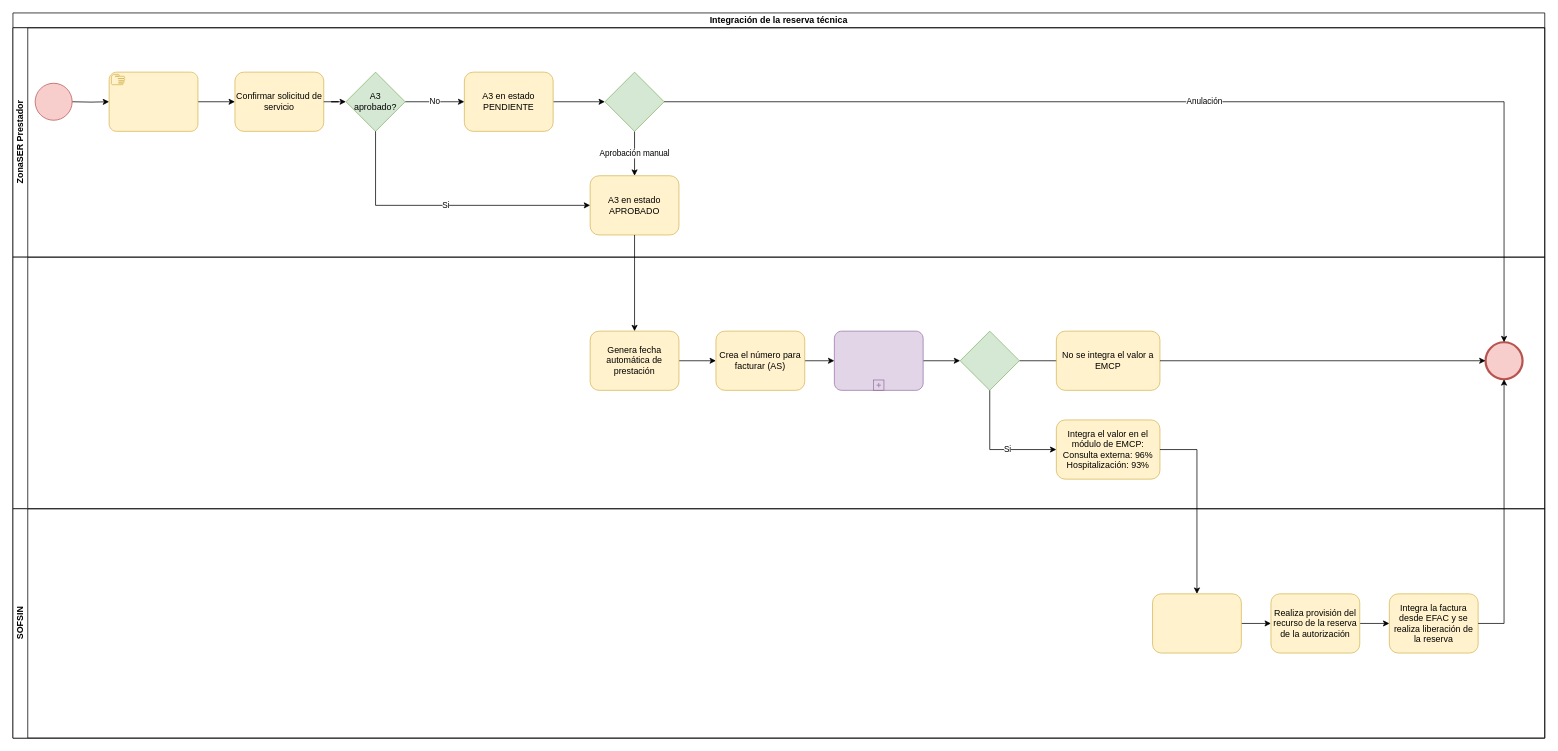
The diagram is 1558 pixels wide and 751 high, and some of its shapes have lost their labels. The box of each missing label's shape, as (x1, y1, x2, y2) in pixels:
A3?: (604, 71, 664, 131)
Consulta el valor autorizado: (1152, 593, 1241, 653)
Creación solicitud de servicio de salud (A3): (108, 71, 198, 131)
Cumple?: (959, 330, 1019, 390)
OASIS: (12, 256, 1545, 509)
Validacion de cumplimiento de condiciones del AS: (834, 330, 923, 390)
